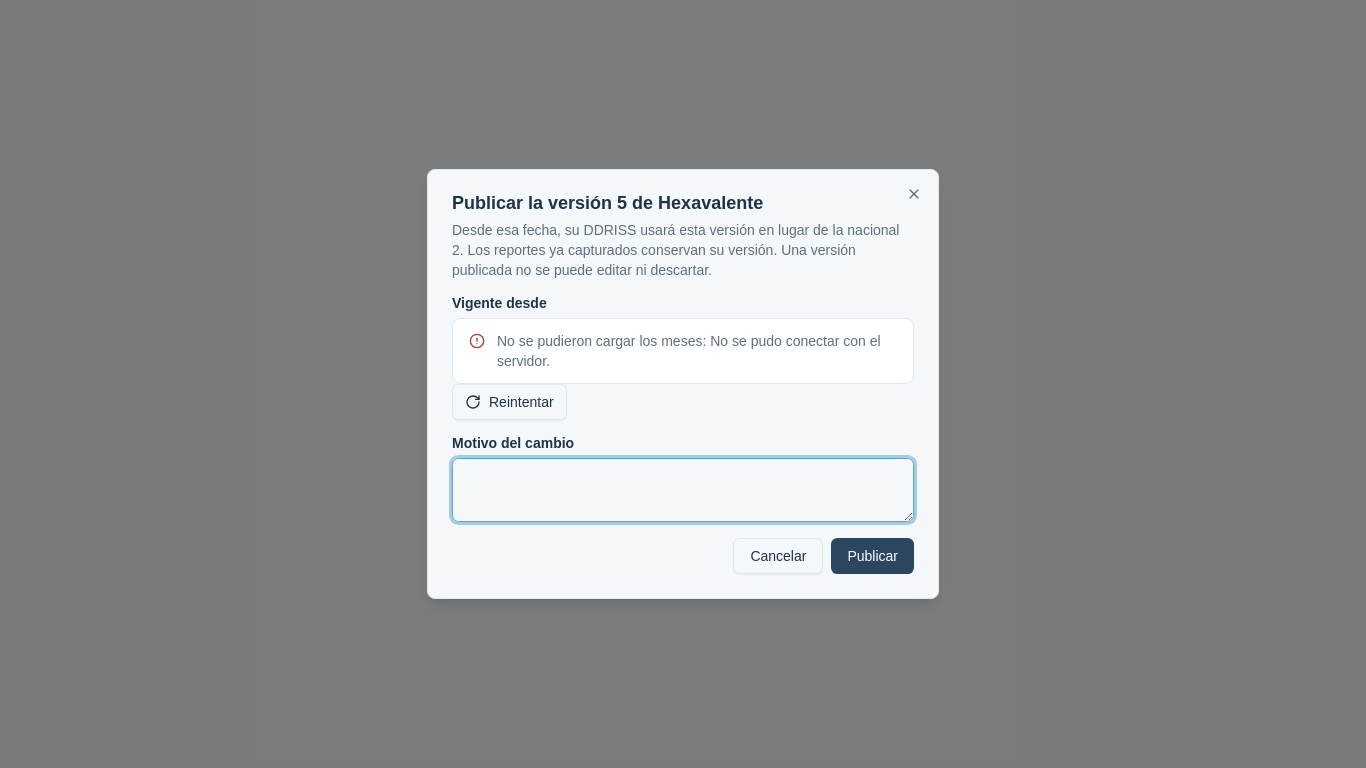
it: si falla la carga del calendario, lo avisa, y "Reintentar" vuelve a pedir los meses
Expected: the text "No se pudieron cargar los meses: No se pudo conectar con el servidor." is shown, [497,331,897,371]
Click the button "Reintentar".
click(509, 402)  # box [452,384,567,420]
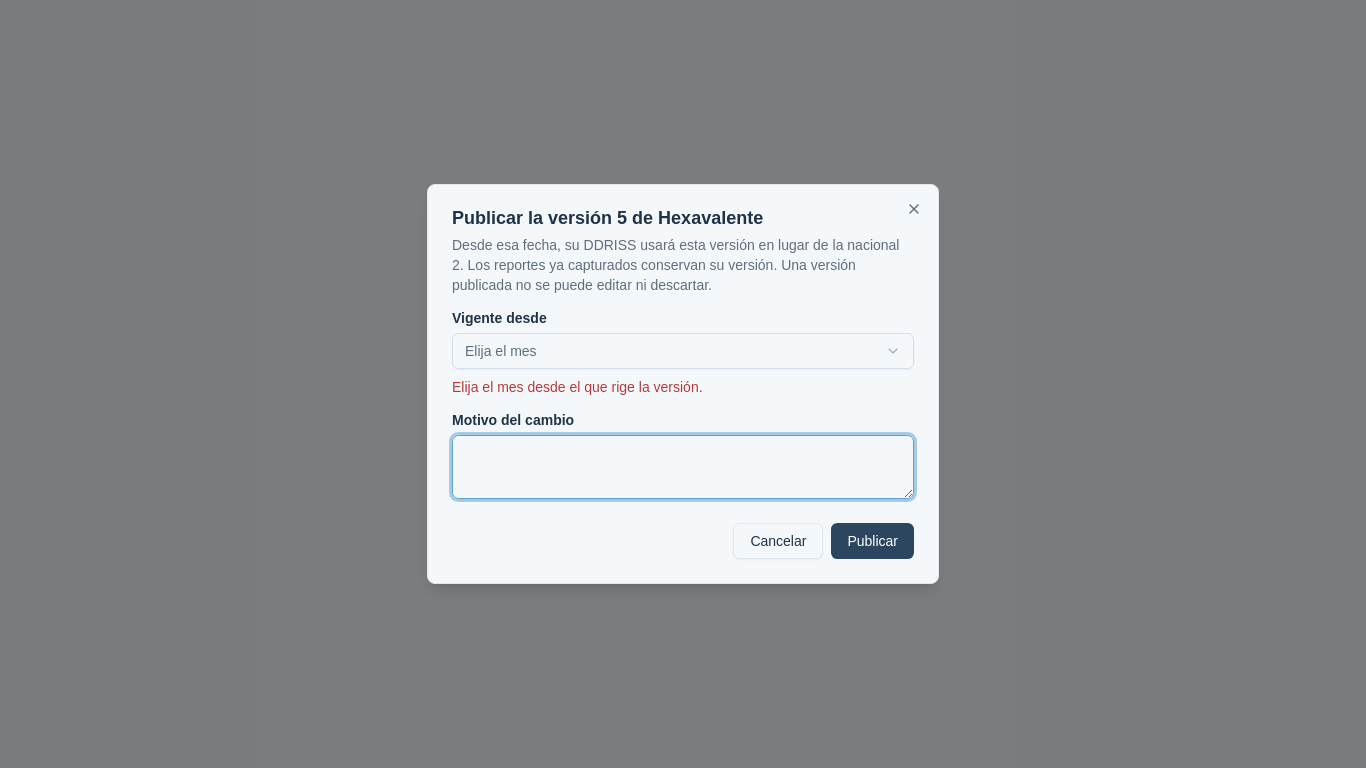
Expected: the text "No se pudieron cargar los meses" is gone
